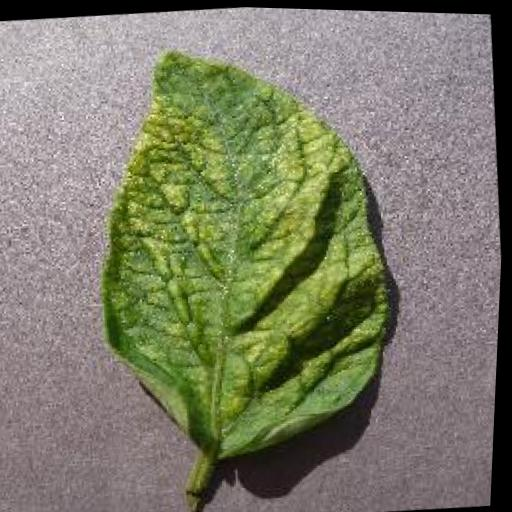Spider Mites: (78, 31, 418, 472)
